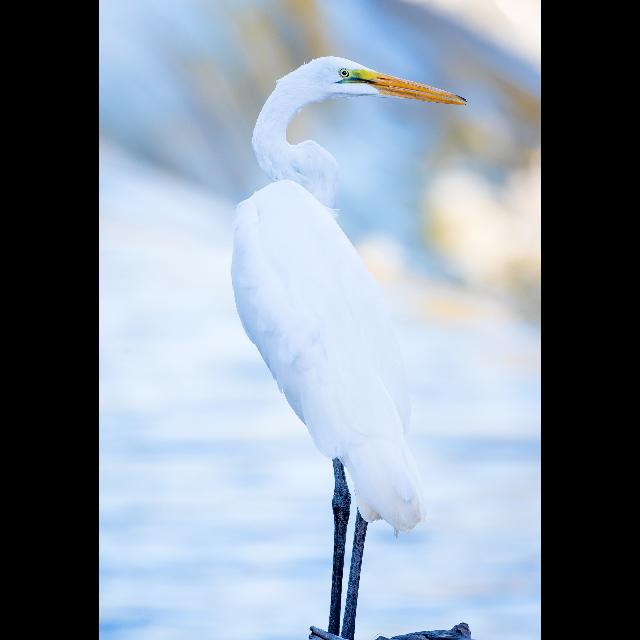egret: (222, 46, 498, 640)
